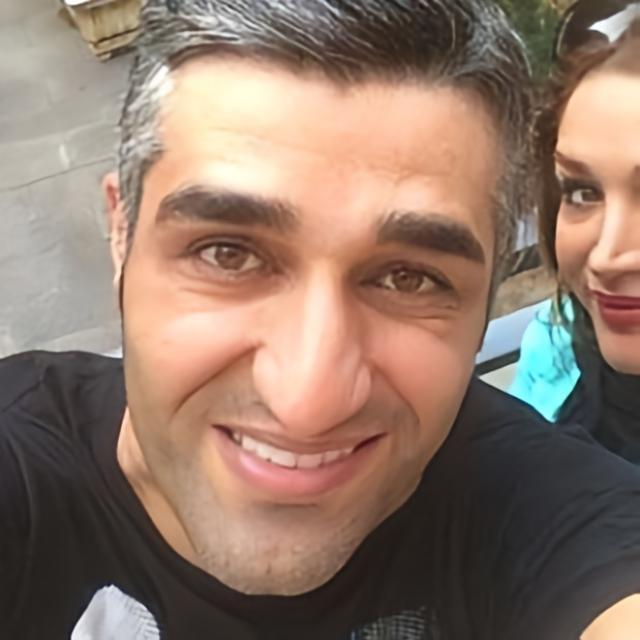happy: (126, 68, 494, 579), (548, 62, 640, 382)
